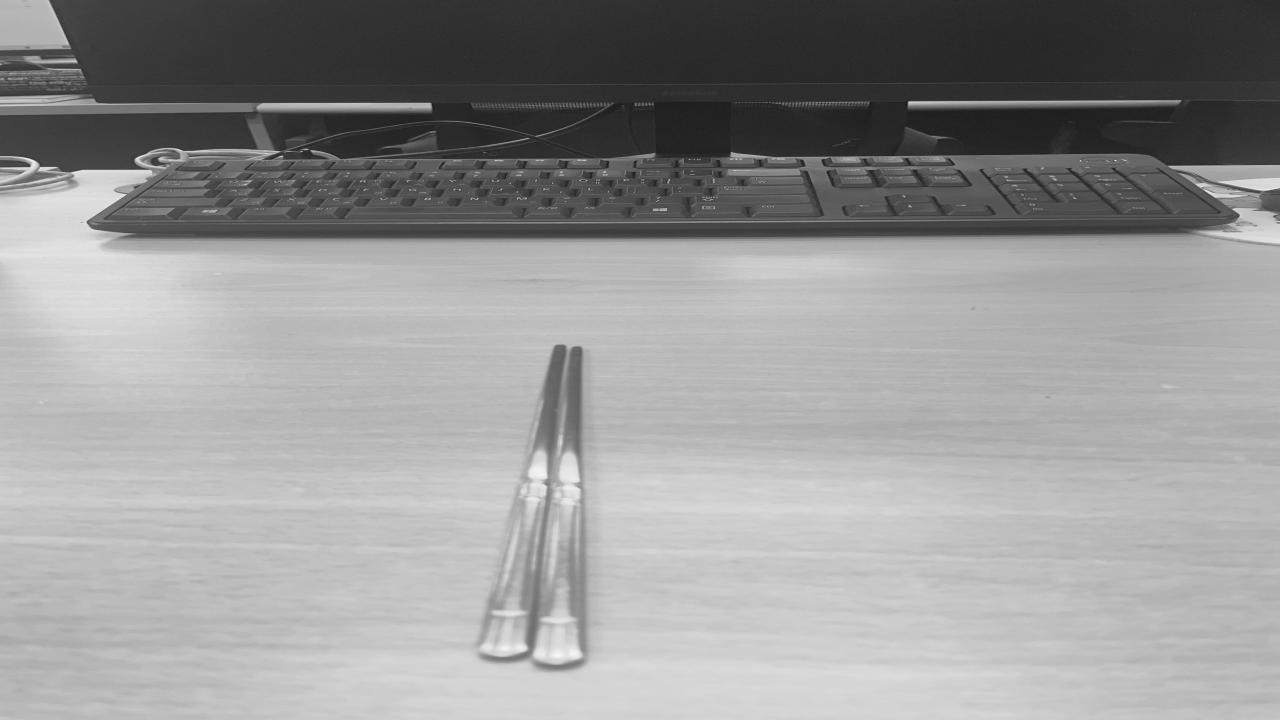chopstick: (487, 344, 586, 664)
